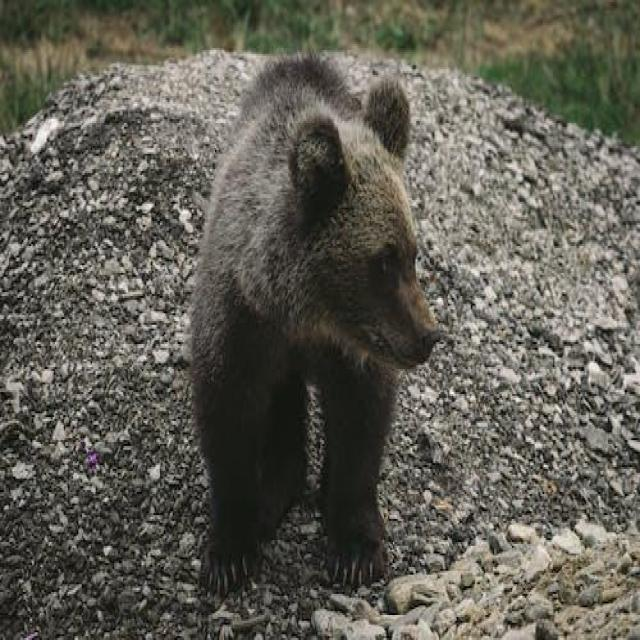Bear: (188, 56, 443, 600)
